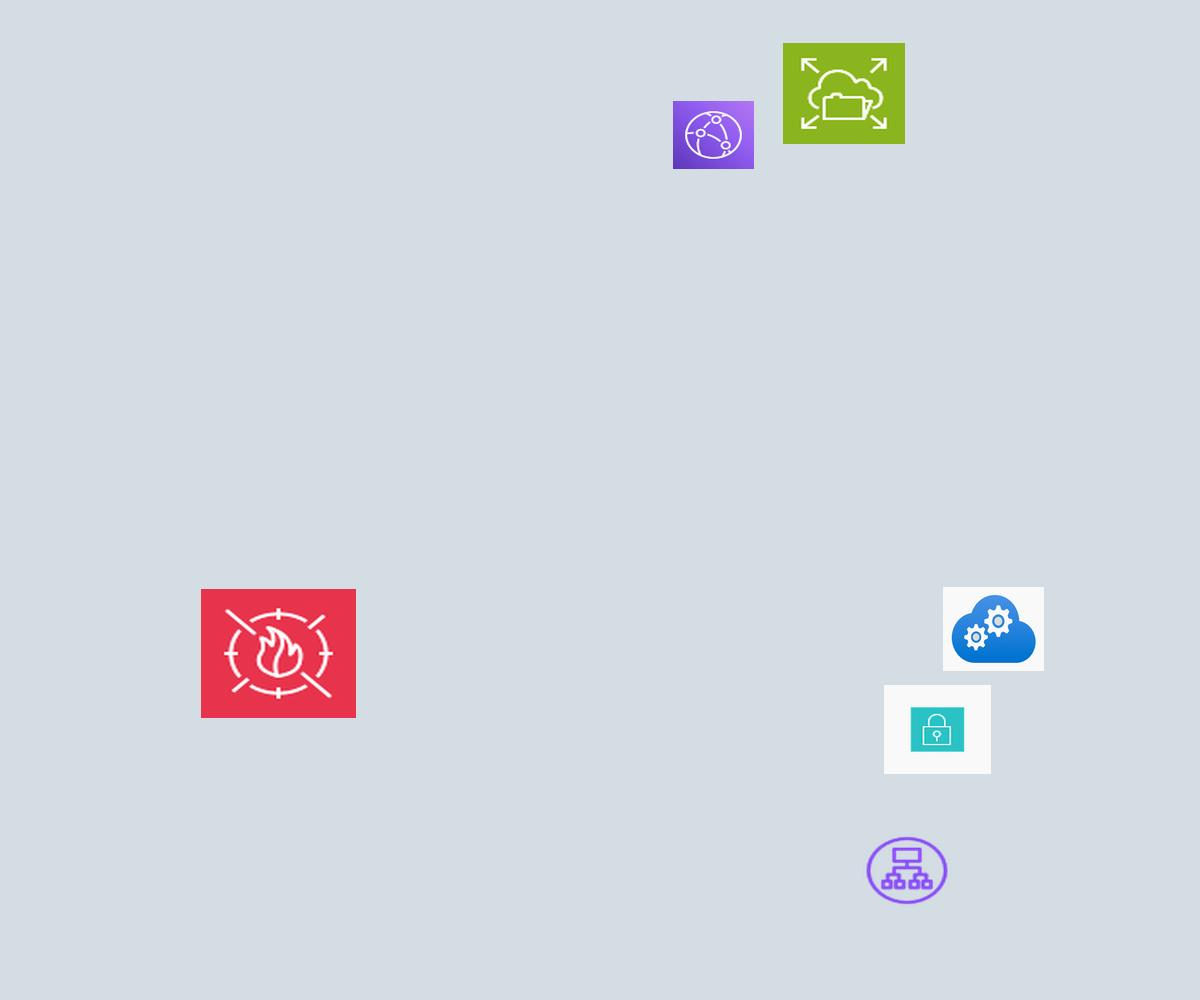AWS-CloudFront: (673, 101, 754, 169)
AWS-EFS: (783, 43, 905, 144)
AWS-Private-subnet: (884, 685, 991, 774)
AWS-Res_Elastic-Load-Balancing_Application-Load-Balancer: (863, 834, 951, 907)
AWS-WAF: (201, 589, 356, 718)
Azure_cloud_services: (943, 587, 1044, 671)
